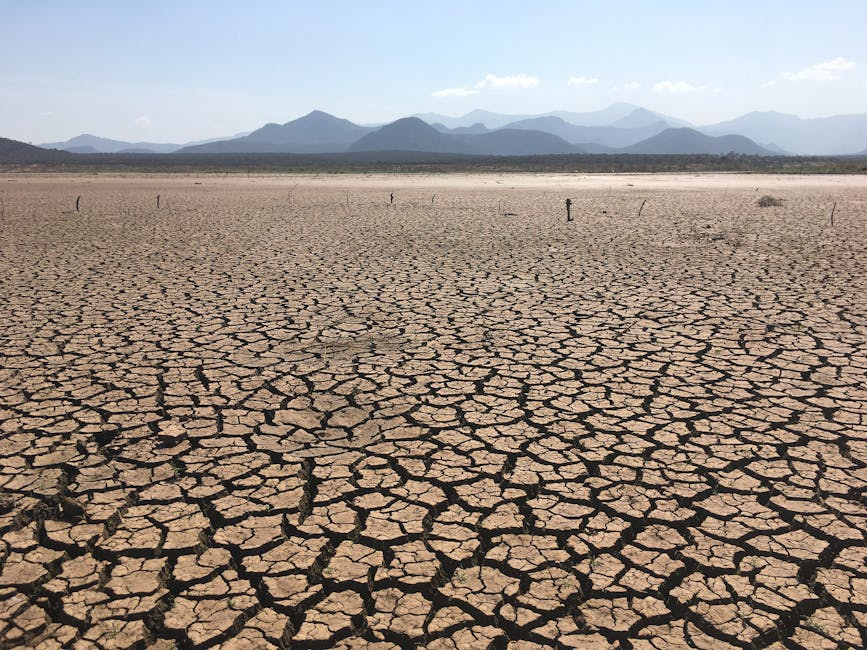网状裂隙: (64, 357, 454, 626), (522, 394, 855, 626)
